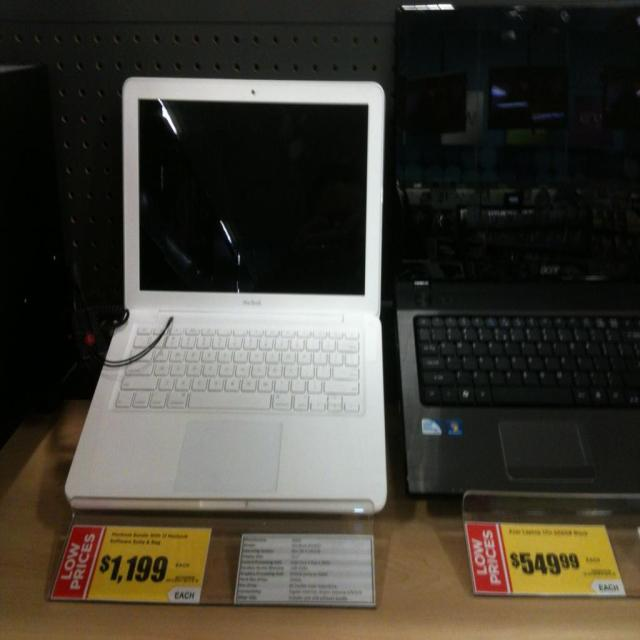laptop: (64, 79, 380, 509), (401, 0, 640, 498)
